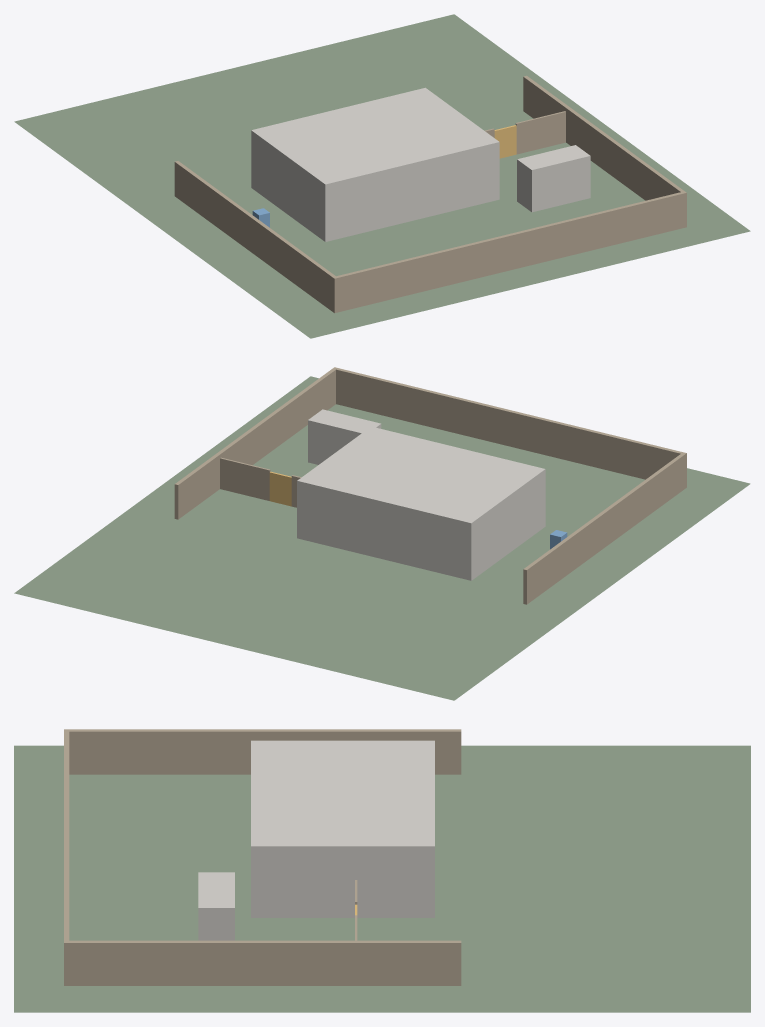
File: ground.glb
The picture shows the model from 3 angles, top to bottom: view 1: azimuth 30°, elevation 25°; view 2: azimuth 150°, elevation 25°; view 3: azimuth 270°, elevation 25°; orthographic projection. The views are drawn at different scales.
Visible parts, largest first — view 1: ground, house, fence_back, fence_right, fence_left, shed, gate_fence_b, side_gate; view 2: ground, house, fence_back, fence_right, fence_left, shed, gate_fence_b, side_gate; view 3: ground, house, fence_left, fence_right, shed, fence_back.
Boxes of the visible parts, left/top/right/bottom form: ground: left=14, top=14, right=750, bottom=338; house: left=251, top=87, right=499, bottom=241; fence_back: left=332, top=191, right=686, bottom=313; fence_right: left=174, top=161, right=336, bottom=311; fence_left: left=523, top=75, right=684, bottom=200; shed: left=517, top=145, right=590, bottom=212; gate_fence_b: left=515, top=111, right=565, bottom=154; side_gate: left=494, top=125, right=516, bottom=158; ground: left=14, top=376, right=750, bottom=700; house: left=297, top=426, right=545, bottom=580; fence_back: left=333, top=367, right=686, bottom=488; fence_right: left=523, top=453, right=685, bottom=604; fence_left: left=174, top=368, right=336, bottom=519; shed: left=308, top=409, right=381, bottom=464; gate_fence_b: left=220, top=457, right=270, bottom=500; side_gate: left=269, top=471, right=291, bottom=506; ground: left=14, top=745, right=750, bottom=1012; house: left=251, top=740, right=434, bottom=917; fence_left: left=66, top=940, right=461, bottom=985; fence_right: left=66, top=729, right=461, bottom=774; shed: left=198, top=872, right=234, bottom=940; fence_back: left=64, top=729, right=69, bottom=985.
Bounding box in the file's own units: 24 × 3 × 28.
